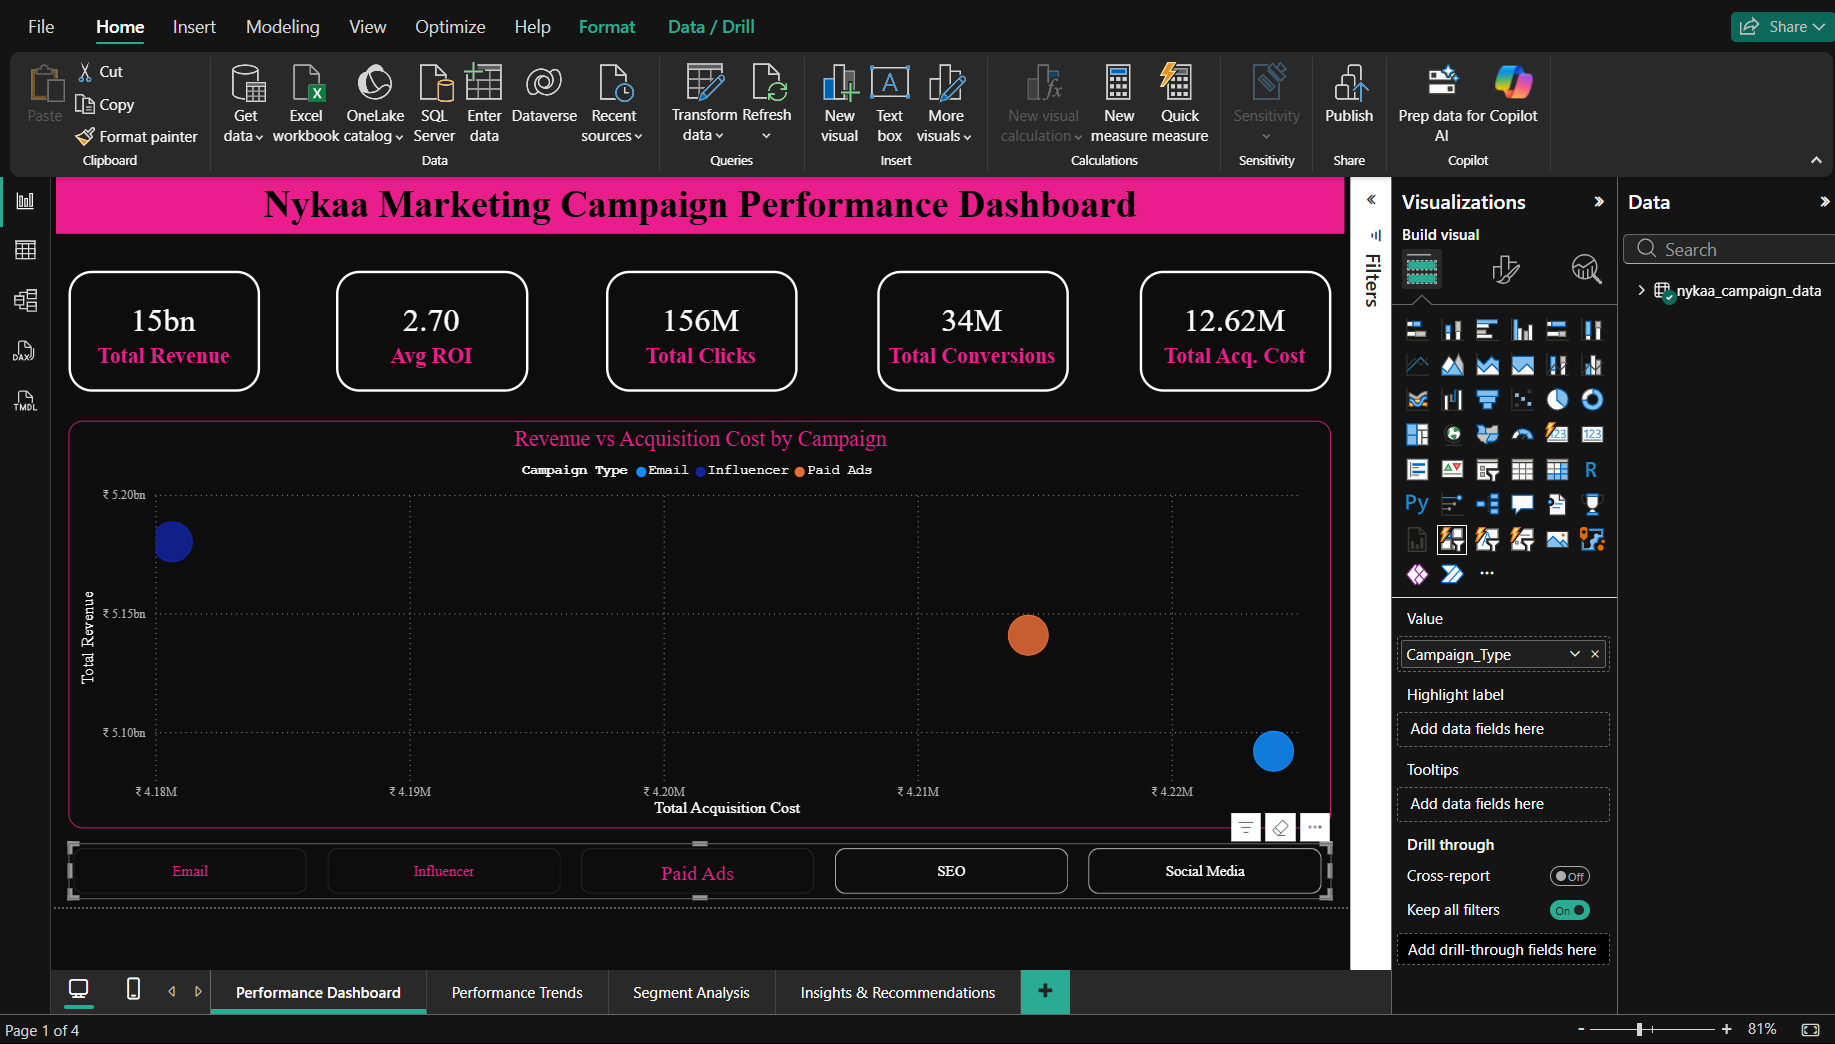

Layout of this report page (visuals, bound fields, positions):
{"tool":"powerbi","page":{"name":"Performance Dashboard","canvas":[1280,720],"ordinal":0},"visuals":[{"type":"textbox","box":[5.3,0,1269.4,55.8],"z":0},{"type":"card","fields":{"Values":["Sum(nykaa_campaign_data.Revenue)"]},"box":[17.2,92.4,188.5,119.5],"z":1000},{"type":"card","fields":{"Values":["Avg(nykaa_campaign_data.ROI)"]},"box":[280.8,92.4,189.7,119.5],"z":2000},{"type":"card","fields":{"Values":["Sum(nykaa_campaign_data.Clicks)"]},"box":[546.9,92.4,188.5,119.5],"z":3000},{"type":"card","fields":{"Values":["Sum(nykaa_campaign_data.Conversions)"]},"box":[814.2,92.4,188.5,119.5],"z":4000},{"type":"card","fields":{"Values":["Sum(nykaa_campaign_data.Acquisition_Cost)"]},"box":[1072.8,92.4,188.5,119.5],"z":5000},{"type":"scatterChart","title":"Revenue vs Acquisition Cost by Campaign","fields":{"X":["Sum(nykaa_campaign_data.Acquisition_Cost)"],"Y":["Sum(nykaa_campaign_data.Revenue)"],"Series":["nykaa_campaign_data.Campaign_Type"],"Size":["Sum(nykaa_campaign_data.Conversions)"]},"box":[17.2,240.2,1244,401.5],"z":6500},{"type":"advancedSlicerVisual","title":"Campaign Type","fields":{"Values":["nykaa_campaign_data.Campaign_Type"]},"box":[17.2,656.5,1244,55.4],"z":7000}]}

Visuals, with their boxes on the page's 1280x720 design canvas (x1, y1, x2, y2). These are canvas units, not pixel positions in the 1835x1044 screenshot, which may show the page scaled, cropped or inside an application window:
textbox: 5,0,1275,56
card - Sum(nykaa_campaign_data.Revenue): 17,92,206,212
card - Avg(nykaa_campaign_data.ROI): 281,92,470,212
card - Sum(nykaa_campaign_data.Clicks): 547,92,735,212
card - Sum(nykaa_campaign_data.Conversions): 814,92,1003,212
card - Sum(nykaa_campaign_data.Acquisition_Cost): 1073,92,1261,212
"Revenue vs Acquisition Cost by Campaign" scatterChart: 17,240,1261,642
"Campaign Type" advancedSlicerVisual: 17,656,1261,712
